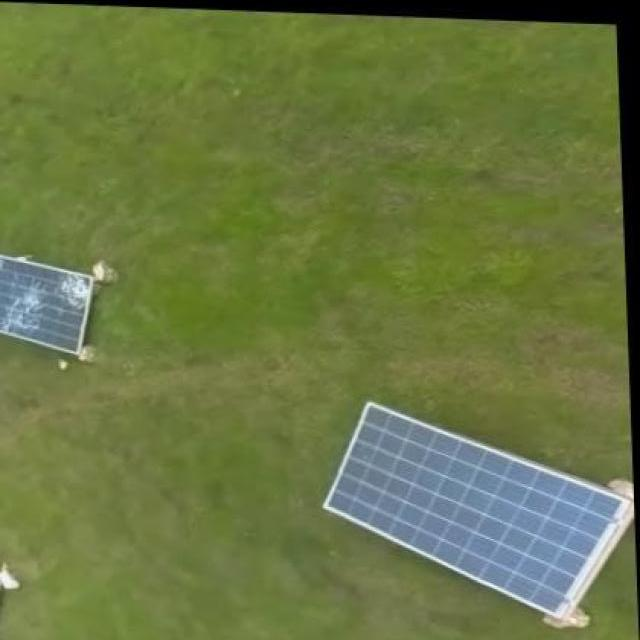cracked: (2, 244, 92, 356)
